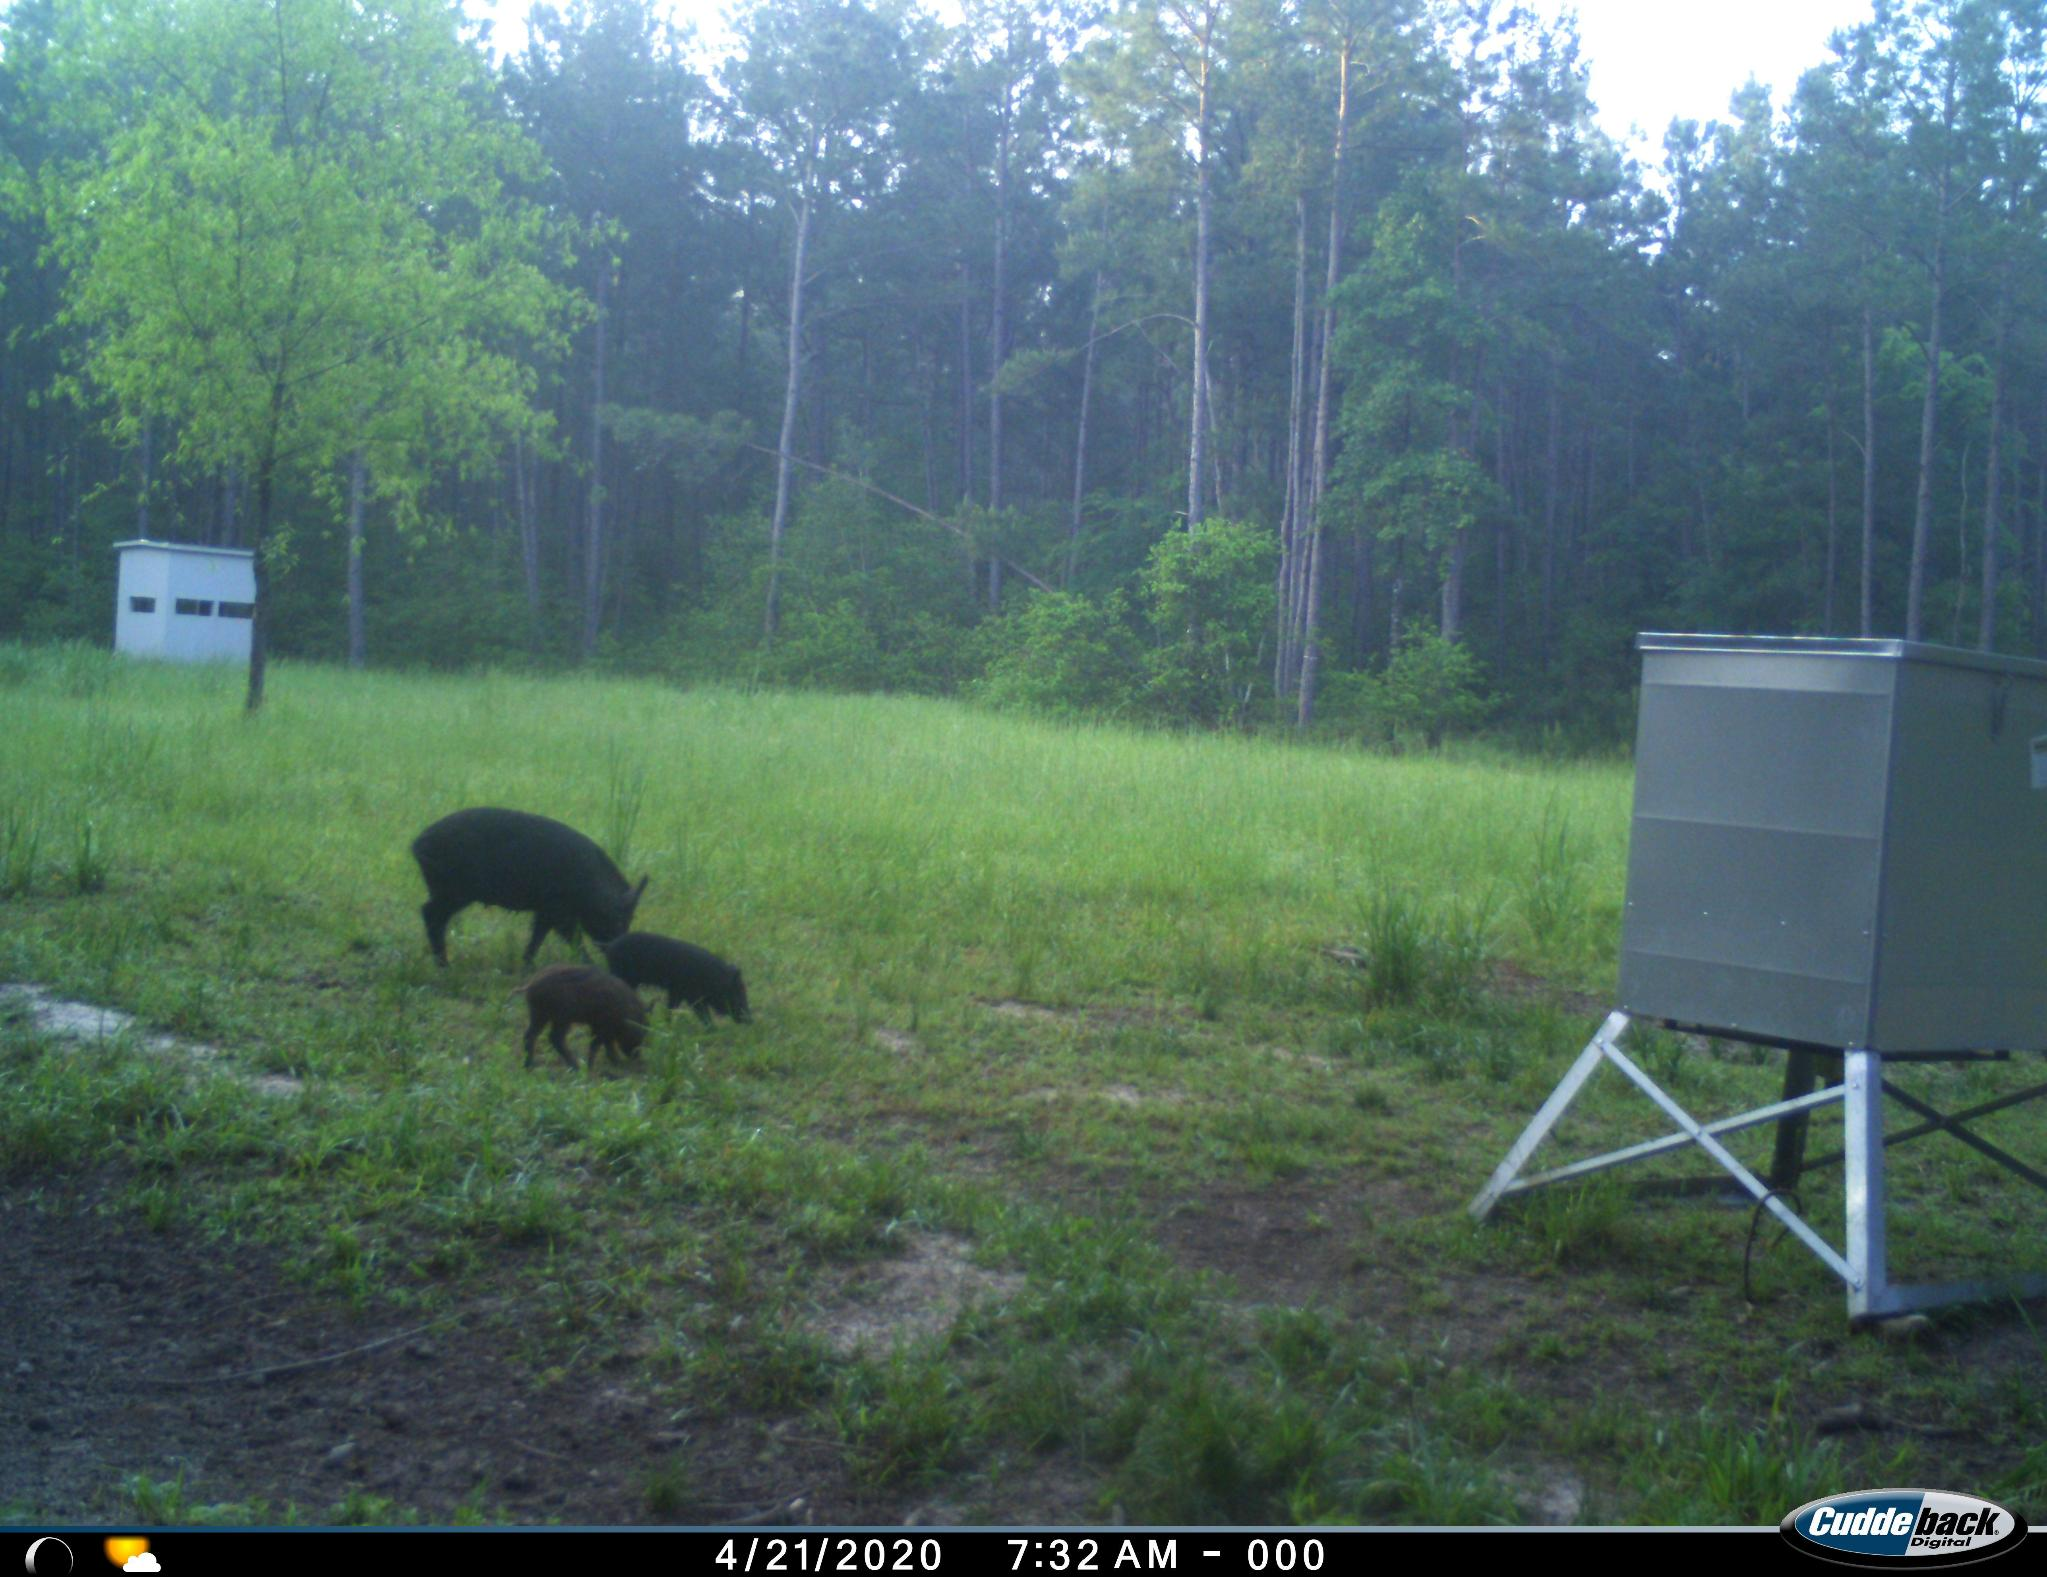Hog: (407, 807, 649, 977), (512, 961, 657, 1083), (600, 928, 760, 1034)
